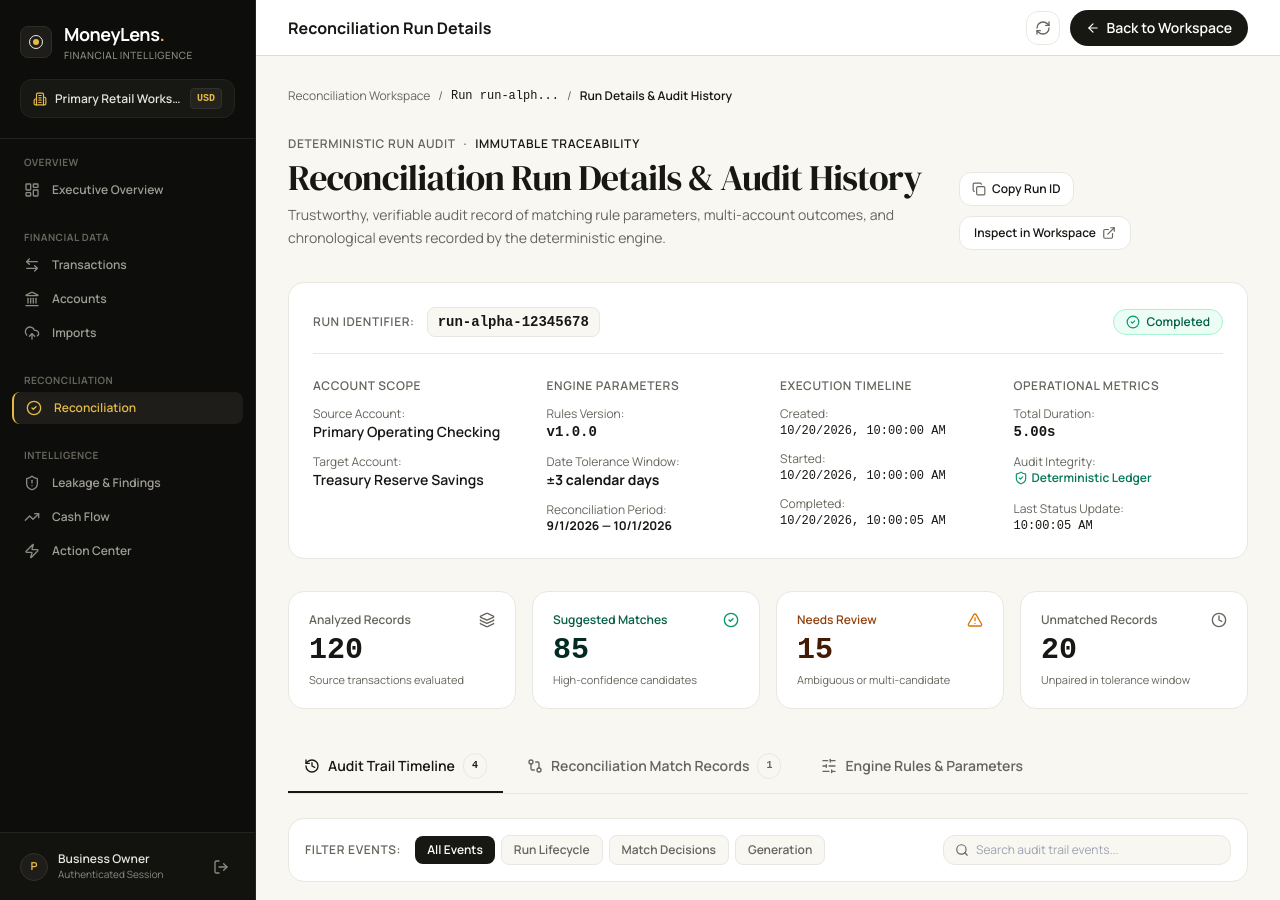
Test: MoneyLens Reconciliation Run Details & Audit History Page Component Suite › switches to Engine Rules & Parameters tab and displays deterministic rules
The image size is (1280, 900).
Click the button "Engine Rules & Parameters". click: point(922, 767)
box: [806,744,1039,790]
(page scrolled)
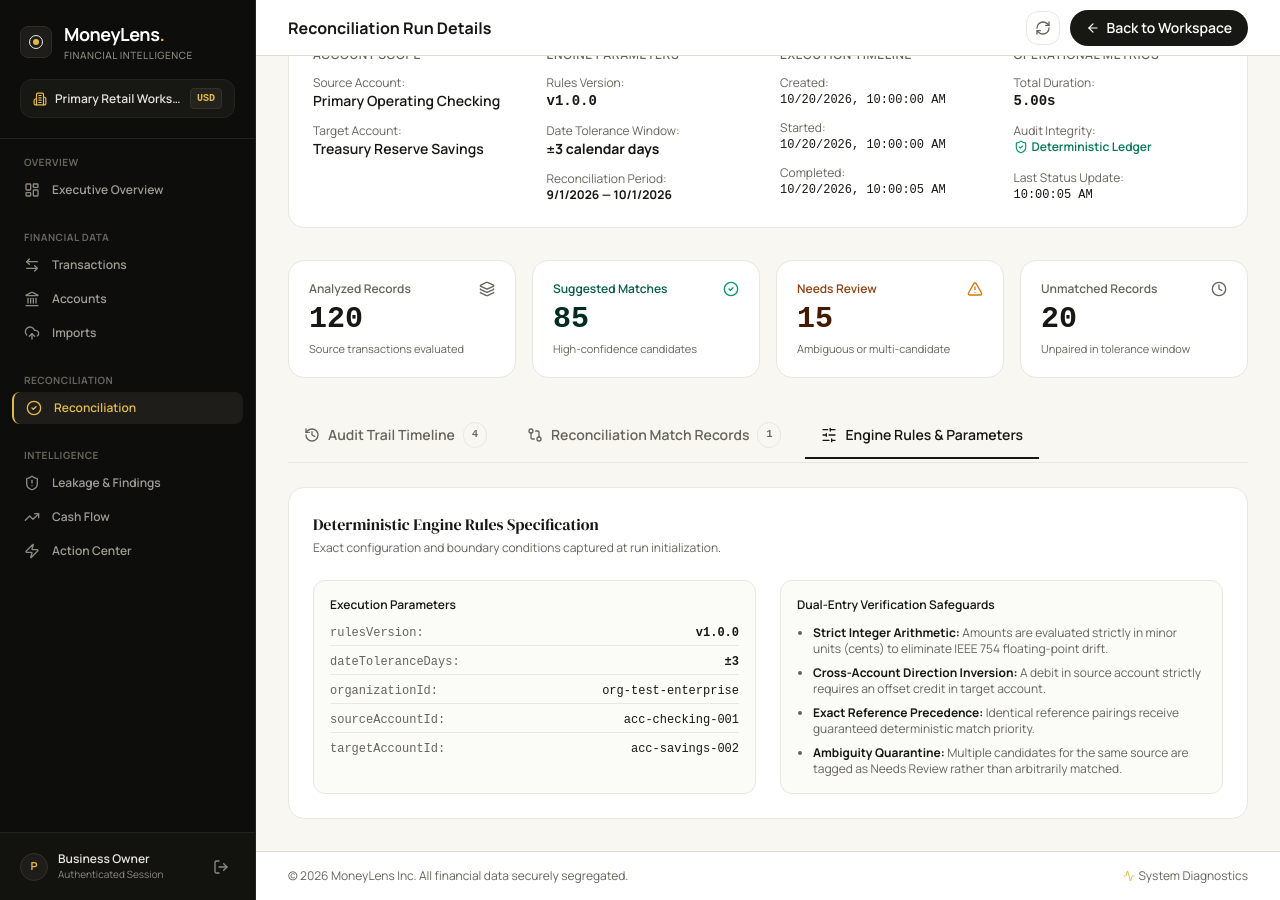
Expected: the heading "Deterministic Engine Rules Specification" is shown, [313,513,599,535]
Expected: the text "Strict Integer Arithmetic:" is shown, [813,624,960,641]
Expected: the text "Cross-Account Direction Inversion:" is shown, [813,664,1018,681]
